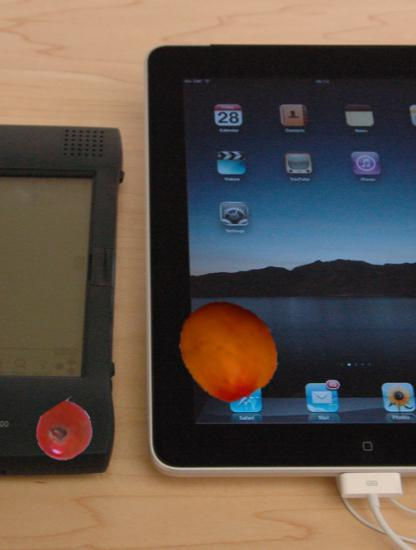Apricot: (175, 296, 282, 403)
Redcurrant: (36, 403, 94, 461)
